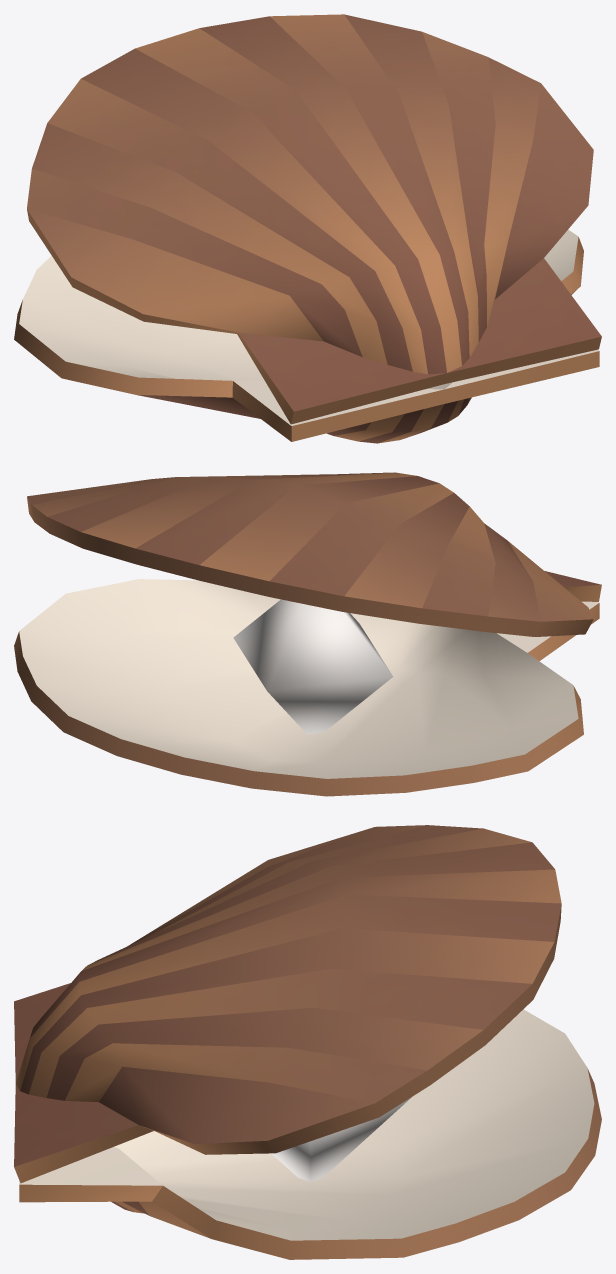
File: shell.FBX
The picture shows the model from 3 angles, top to bottom: view 1: azimuth 30°, elevation 25°; view 2: azimuth 150°, elevation 25°; view 3: azimuth 270°, elevation 25°; orthographic projection. The views are drawn at different scales.
Parts seen in each view (by area): view 1: shell_LOD00; view 2: shell_LOD00; view 3: shell_LOD00.
Part boxes in pixels (<box>): shell_LOD00: <box>14,14,601,443</box>; shell_LOD00: <box>14,472,601,796</box>; shell_LOD00: <box>14,825,601,1259</box>.
Size of what is drawn, in the model's own units: 3.15 by 1.58 by 2.79.
1 material, 1 textured.
